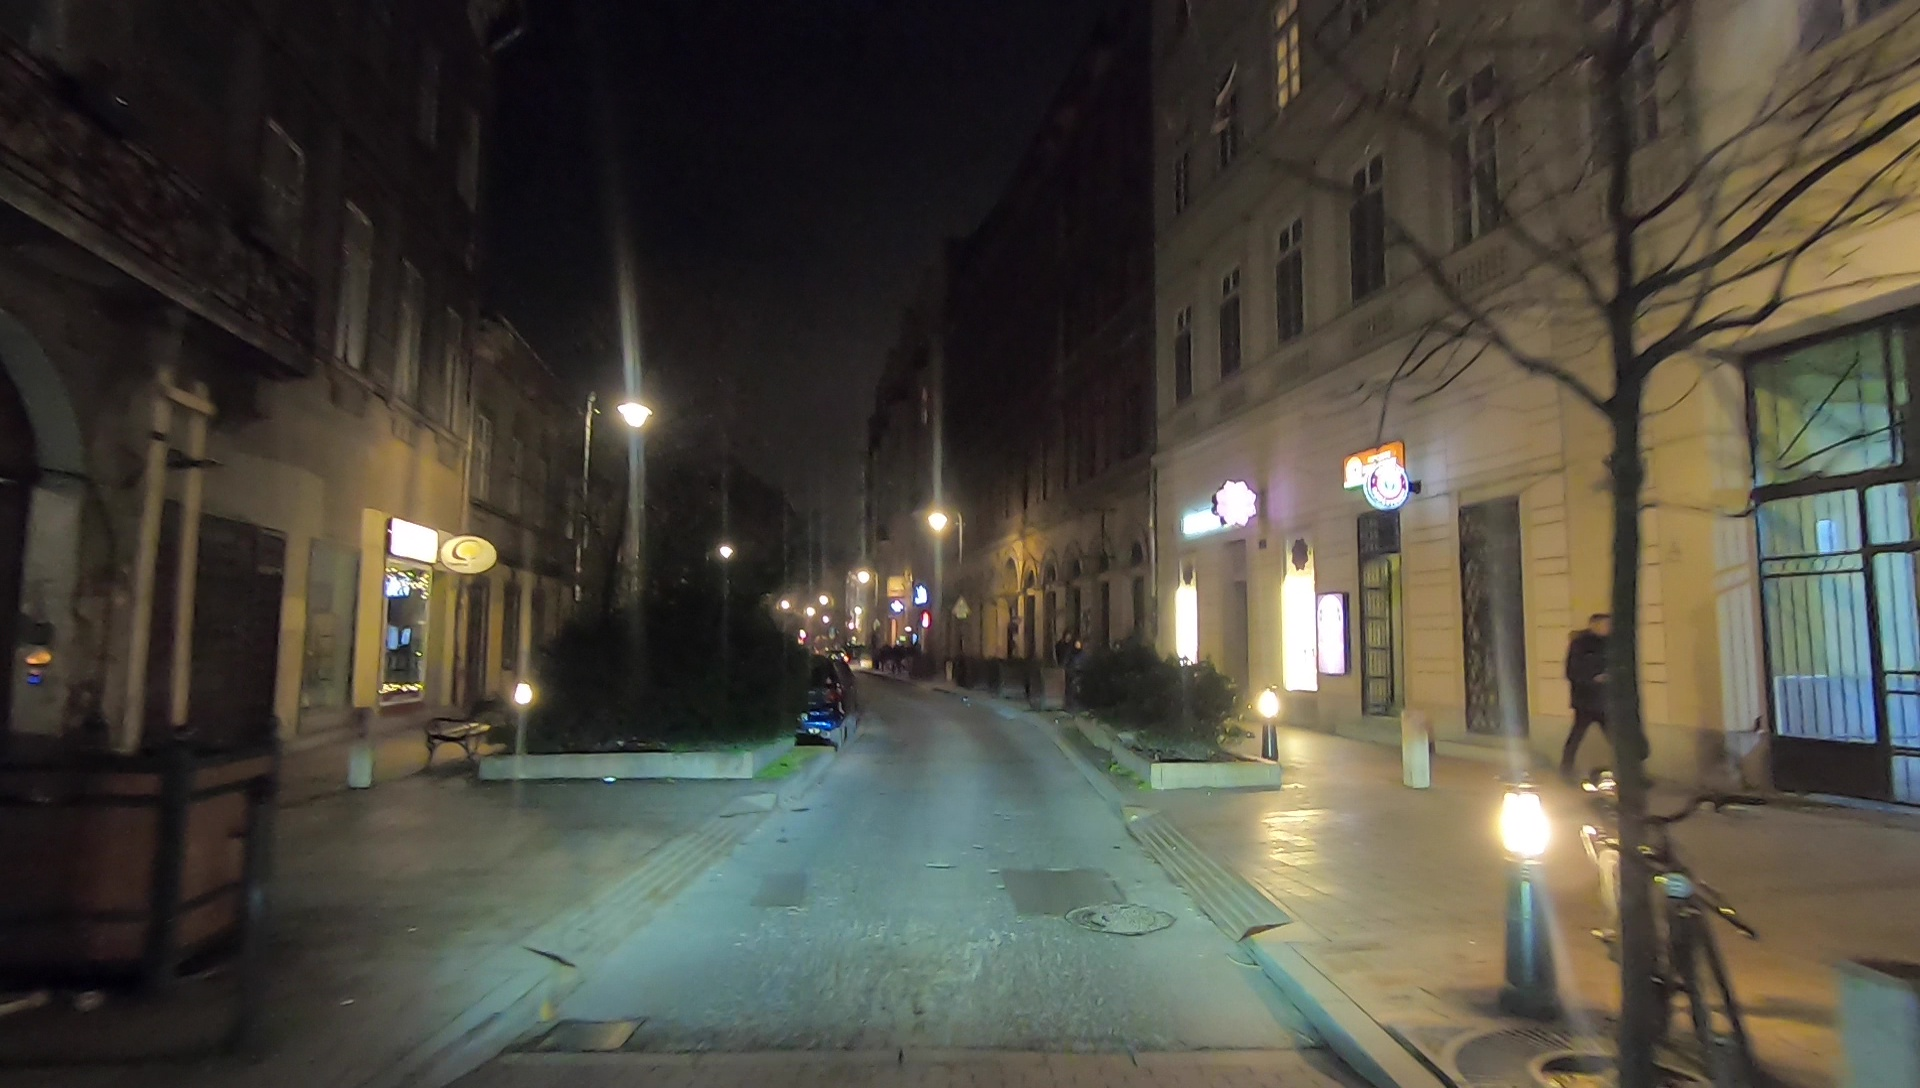person: (1558, 617, 1647, 793)
